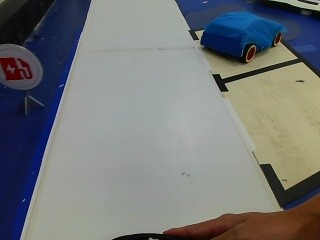battery: (0, 40, 44, 91)
car: (198, 9, 285, 61)
